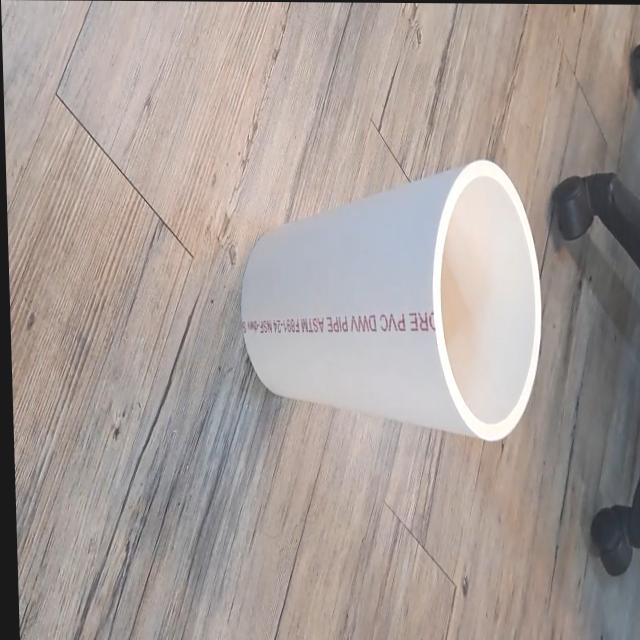CORAL: (232, 151, 551, 456)
